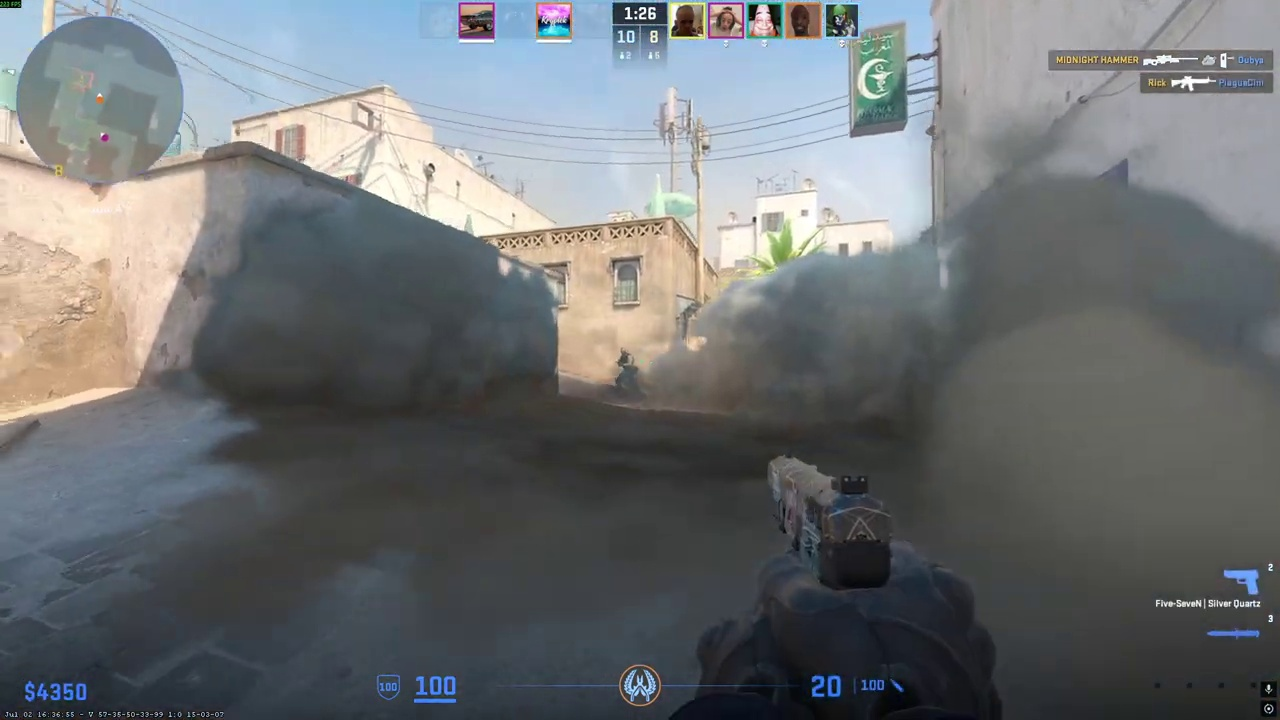Terrorist: (614, 347, 638, 393)
